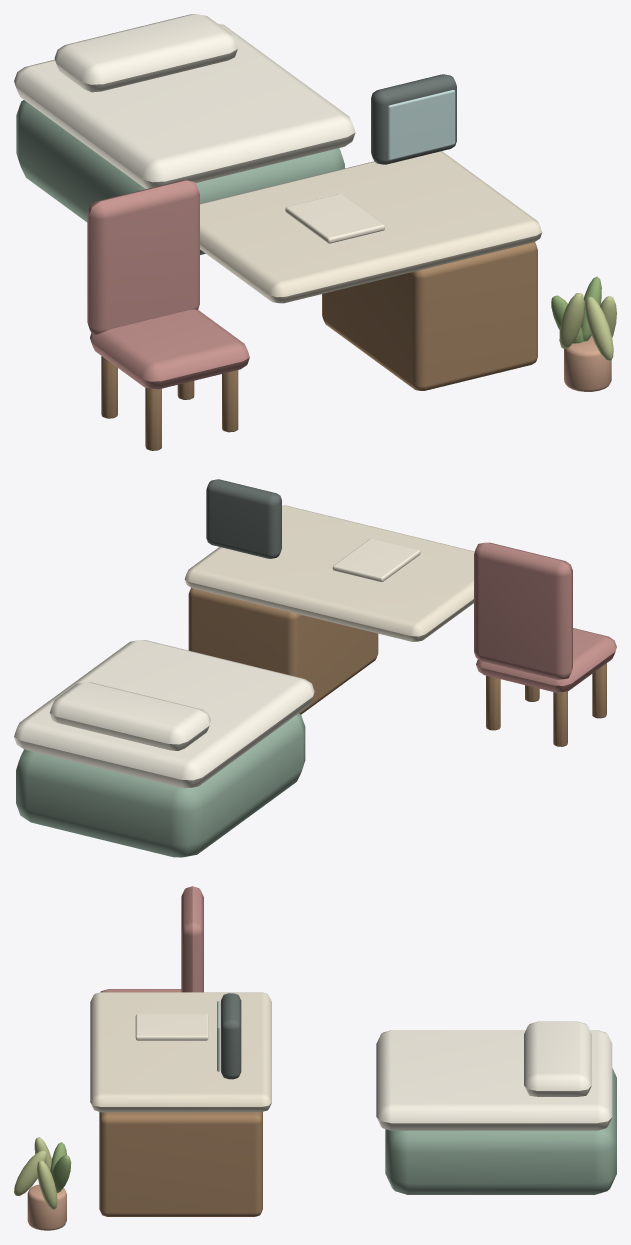
File: Consultation.fbx
3 renders of one model, top to bottom at view 1: azimuth 30°, elevation 25°; view 2: azimuth 150°, elevation 25°; view 3: azimuth 270°, elevation 25°, orthographic. The views are drawn at different scales.
Visible parts, largest first — view 1: Linen.002, Oat.001, Wood.001, Berry, Enamel.002, Glass.002, Paper, Iron.002, LeafLight.001, Clay.001, Leaf.001; view 2: Linen.002, Oat.001, Enamel.002, Berry, Wood.001, Iron.002, Paper; view 3: Linen.002, Oat.001, Wood.001, Enamel.002, Berry, Paper, Iron.002, LeafLight.001, Clay.001, Leaf.001.
Boxes of the visible parts, bbox=[...] form: Linen.002: bbox=[14, 14, 355, 188]; Oat.001: bbox=[200, 151, 542, 303]; Wood.001: bbox=[101, 242, 537, 450]; Berry: bbox=[87, 180, 249, 389]; Enamel.002: bbox=[16, 100, 344, 254]; Glass.002: bbox=[388, 90, 455, 160]; Paper: bbox=[285, 194, 384, 243]; Iron.002: bbox=[371, 74, 456, 164]; LeafLight.001: bbox=[559, 293, 616, 360]; Clay.001: bbox=[564, 335, 611, 391]; Leaf.001: bbox=[551, 276, 601, 343]; Linen.002: bbox=[14, 640, 314, 788]; Oat.001: bbox=[184, 505, 474, 641]; Enamel.002: bbox=[16, 713, 305, 857]; Berry: bbox=[474, 542, 616, 692]; Wood.001: bbox=[188, 588, 606, 746]; Iron.002: bbox=[206, 479, 281, 558]; Paper: bbox=[332, 538, 420, 581]; Linen.002: bbox=[376, 1021, 612, 1130]; Oat.001: bbox=[90, 992, 271, 1112]; Wood.001: bbox=[99, 1112, 262, 1216]; Enamel.002: bbox=[385, 1068, 616, 1194]; Berry: bbox=[100, 886, 203, 992]; Paper: bbox=[135, 1014, 208, 1040]; Iron.002: bbox=[221, 993, 241, 1079]; LeafLight.001: bbox=[14, 1137, 57, 1209]; Clay.001: bbox=[27, 1184, 66, 1230]; Leaf.001: bbox=[50, 1142, 71, 1192].
Bounding box in the file's own units: 183 × 94.5 × 266.
